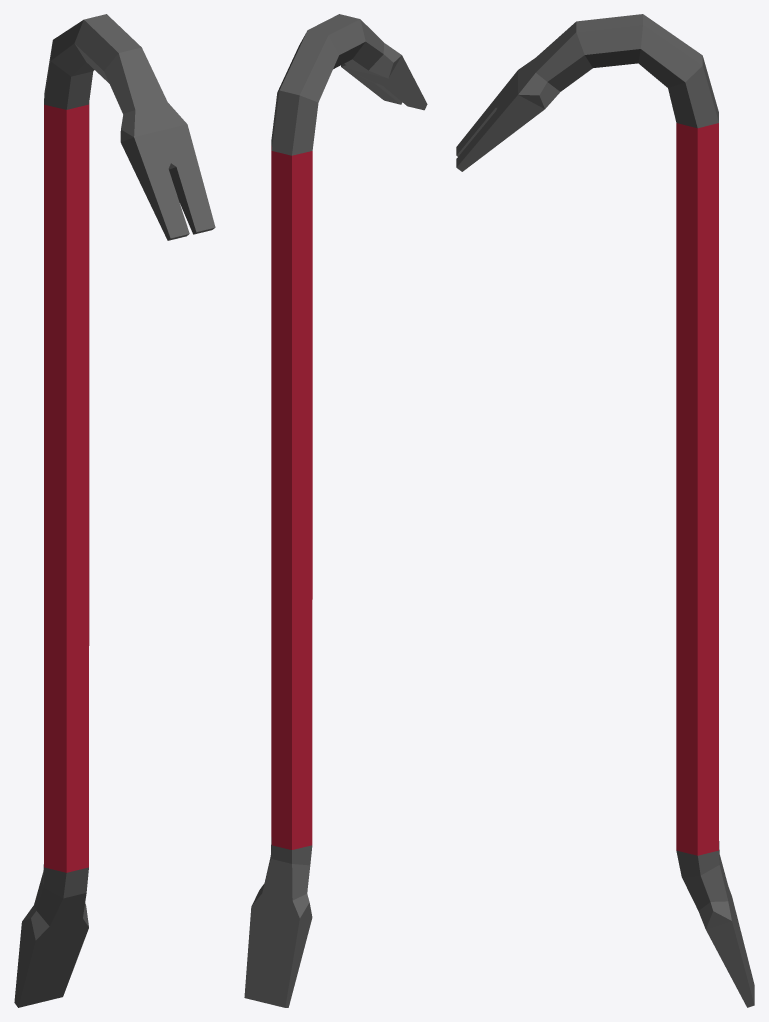
File: crowbar.glb
The picture shows the model from 3 angles, left to right: view 1: azimuth 30°, elevation 25°; view 2: azimuth 150°, elevation 25°; view 3: azimuth 270°, elevation 25°; orthographic projection. The views are drawn at different scales.
Parts seen in each view (by area): view 1: Crowbar_LOD0; view 2: Crowbar_LOD0; view 3: Crowbar_LOD0.
Boxes of the visible parts, x1,y1,x2,y2 form: Crowbar_LOD0: (14,14,215,1007); Crowbar_LOD0: (244,14,427,1007); Crowbar_LOD0: (456,14,754,1007).
Bounding box in the file's own units: 0.0336 × 0.5726 × 0.1581.
1 material, 1 textured.
